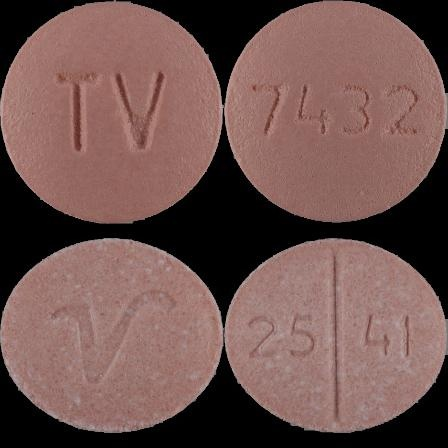54868-6458: (0, 0, 224, 224)
